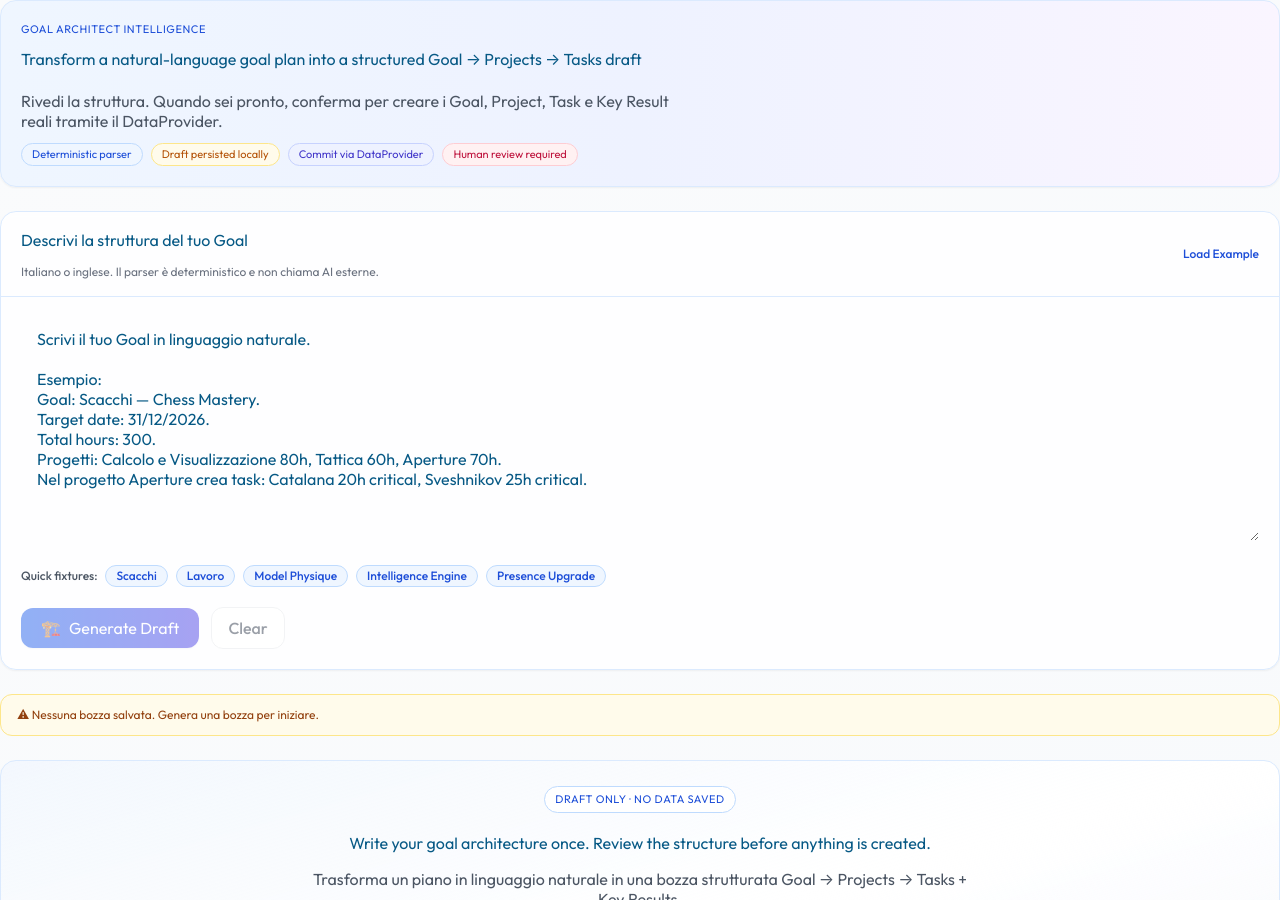
Scenario: GoalArchitectView — persistence › Clear removes the saved draft and resets the view
The width and height of the screenshot is (1280, 900).
What coordinates should you click on to do the following:
click the button with test id "goal-architect-chip-chess"
I would click on:
 (137, 576)
Its box is [106,565,168,587].
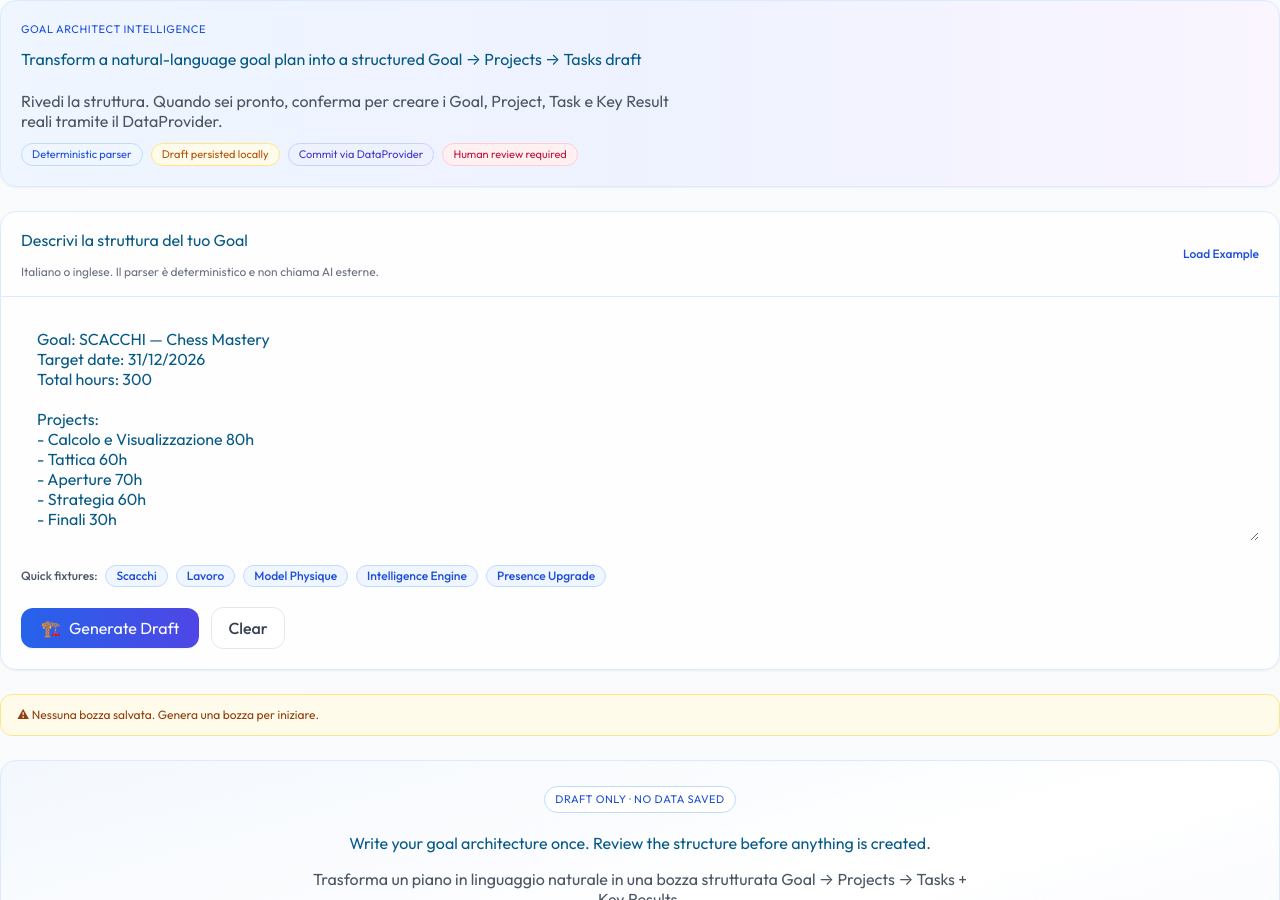
What coordinates should you click on to do the following:
click the button with test id "goal-architect-generate"
I would click on:
 (110, 628)
Its box is [21,608,199,648].
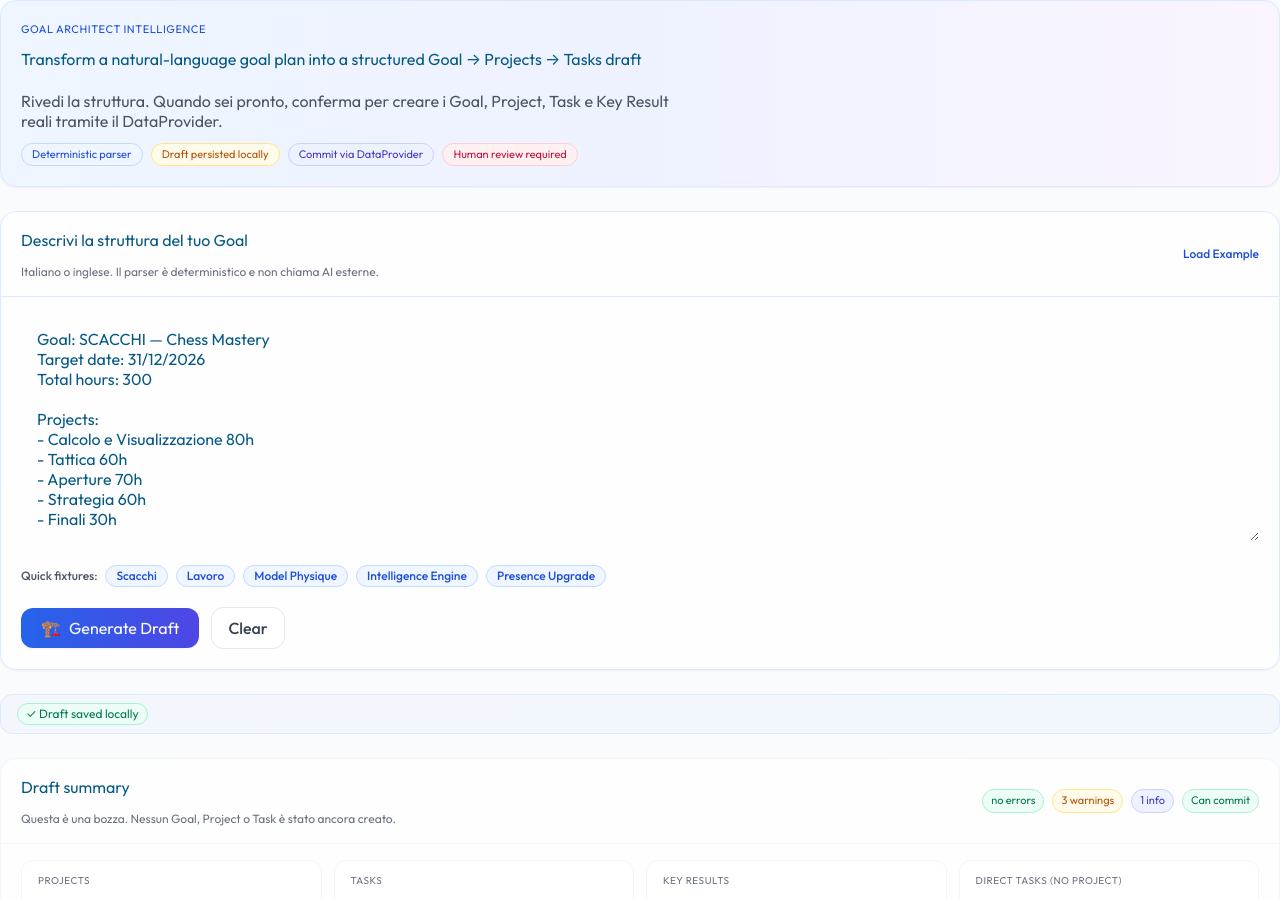
What coordinates should you click on to do the following:
click the button with test id "goal-architect-clear"
I would click on:
 (248, 628)
Its box is [211,607,285,649].
(page scrolled)
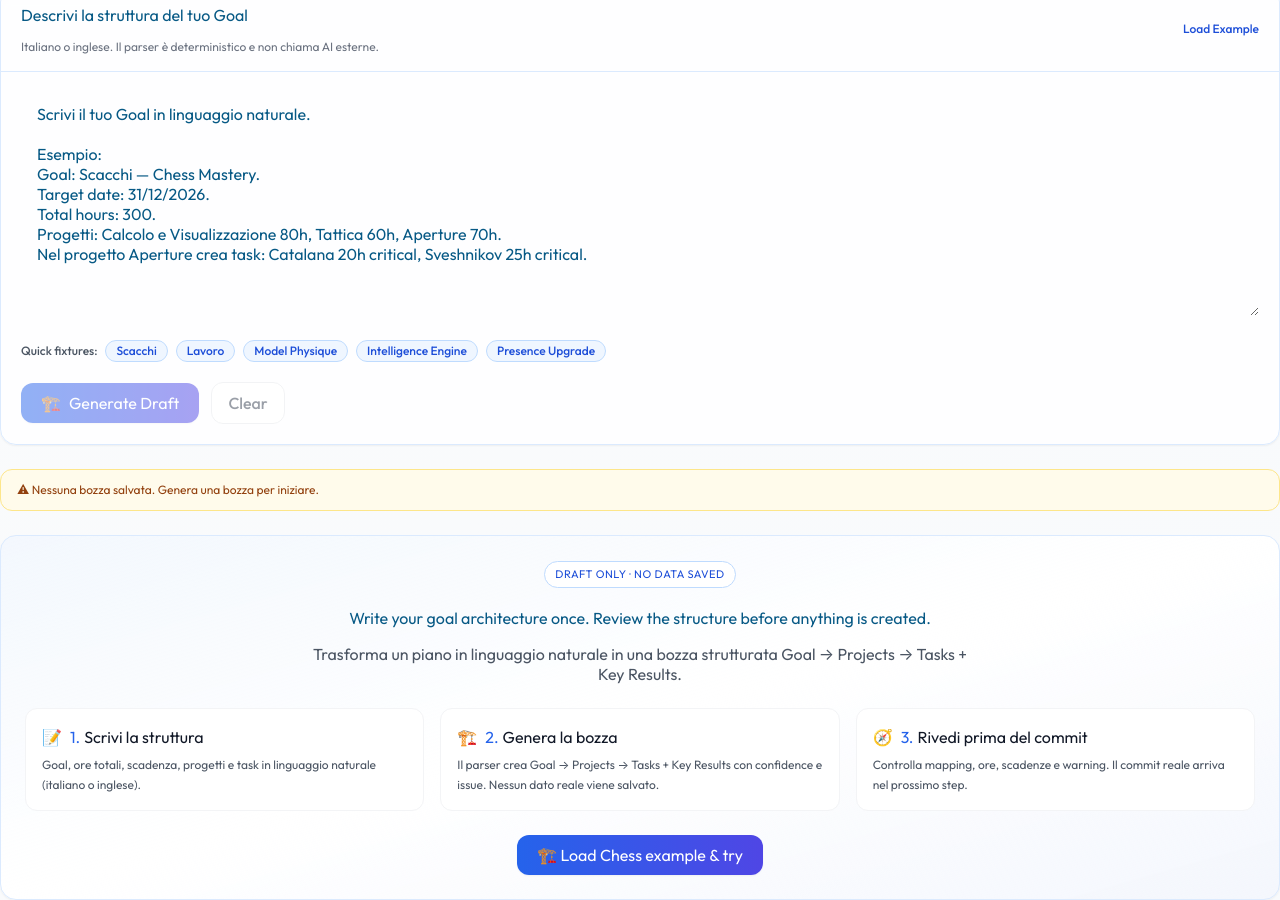
Result: the text box with test id "goal-architect-textarea" is empty at [21,92,1259,316]
Result: the element with test id "goal-architect-empty-state" is shown at [0,535,1279,899]
